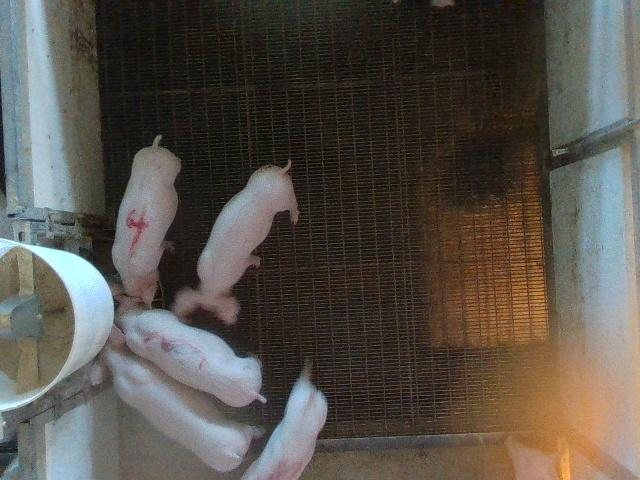pig-3: (111, 294, 265, 407)
pig-4: (112, 135, 181, 307)
